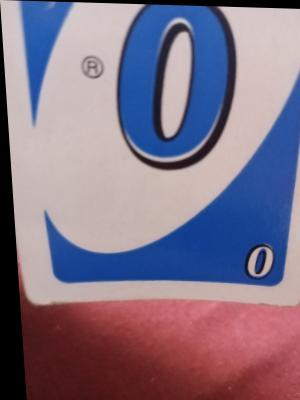blue: (15, 9, 292, 293)
num_0: (236, 240, 279, 279)
